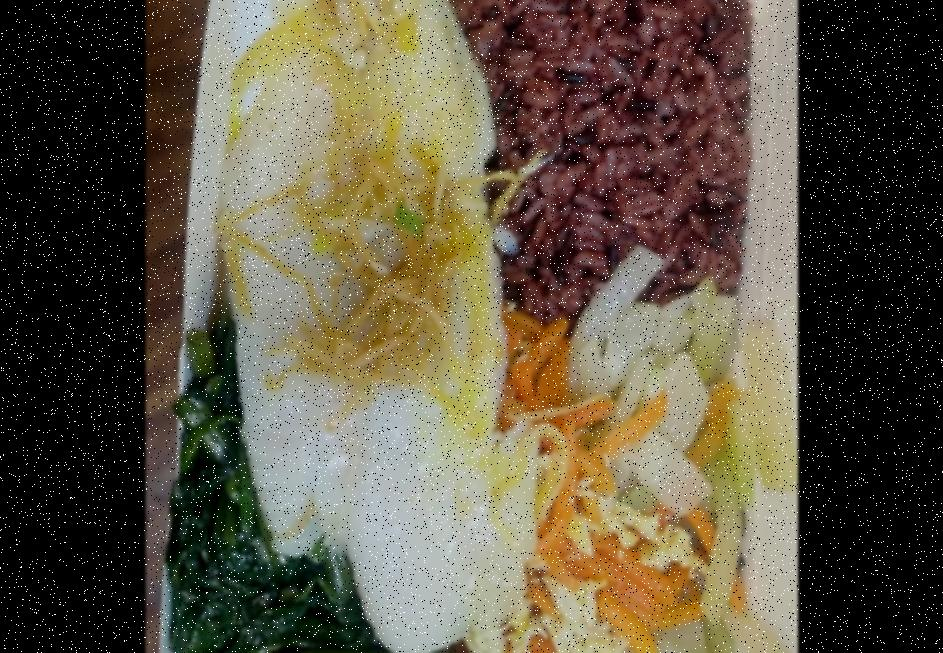big grilled chicken leg: (157, 0, 783, 653)
braised fish: (458, 0, 758, 318)
braised fish fillet: (169, 335, 461, 653), (574, 250, 774, 653), (484, 331, 687, 653)
braised pork ribs: (216, 0, 532, 653)
